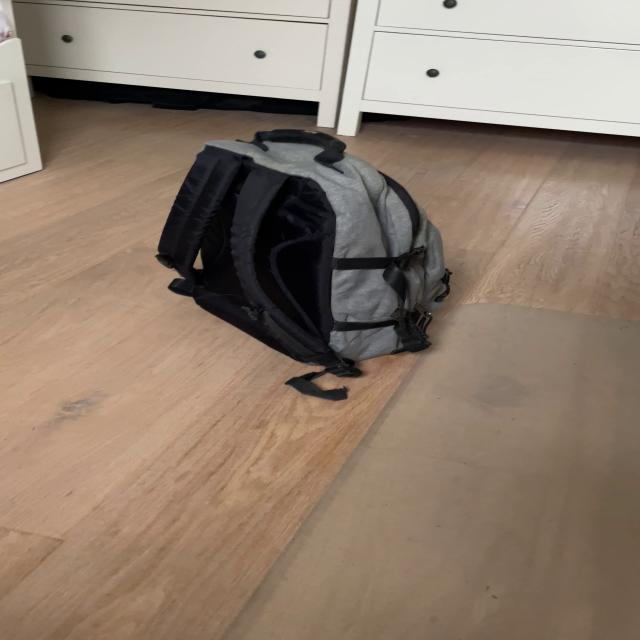backpack: (142, 112, 460, 378)
